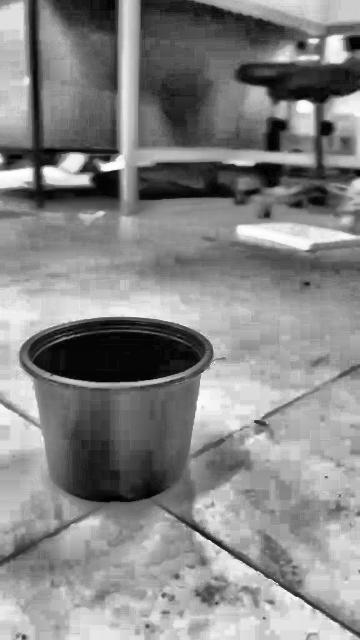pot: (19, 318, 212, 501)
